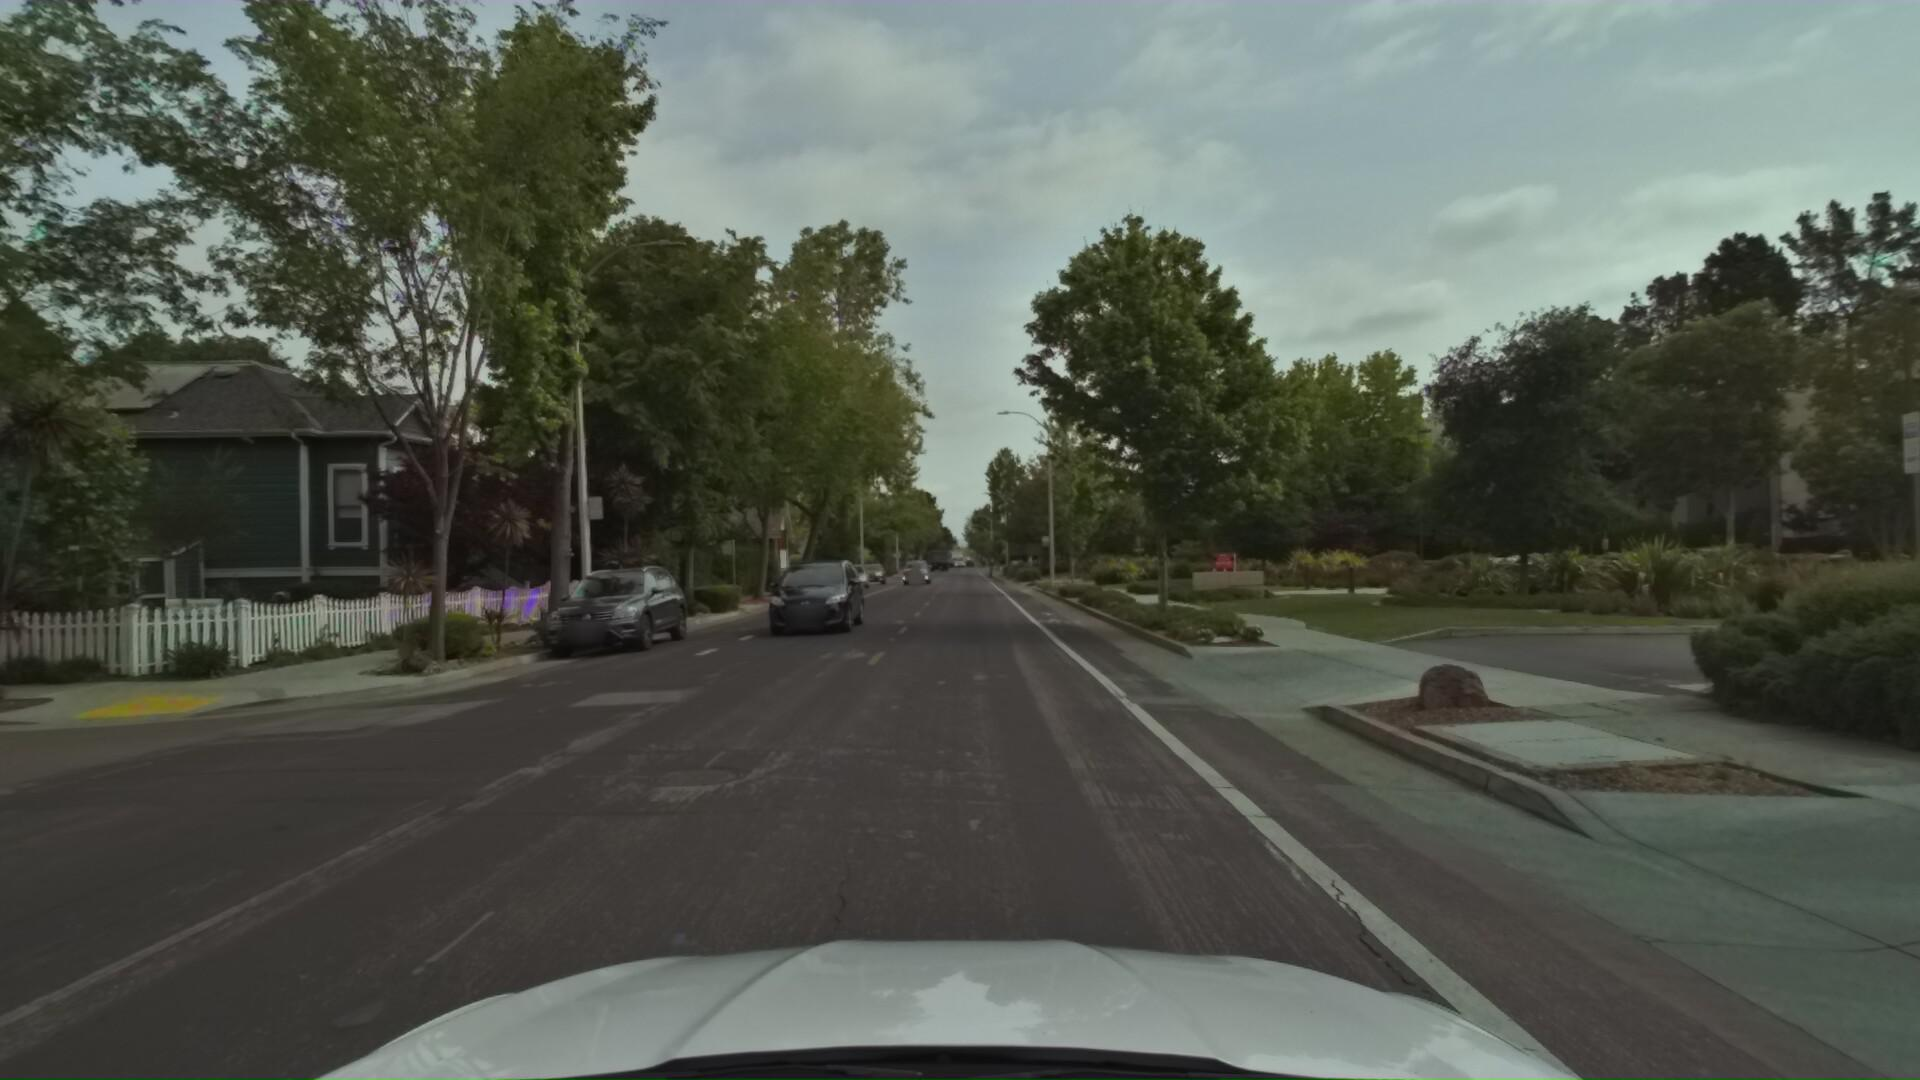car: (524, 566, 692, 670), (746, 558, 864, 644), (837, 564, 870, 593), (855, 560, 887, 588), (898, 560, 928, 588)
